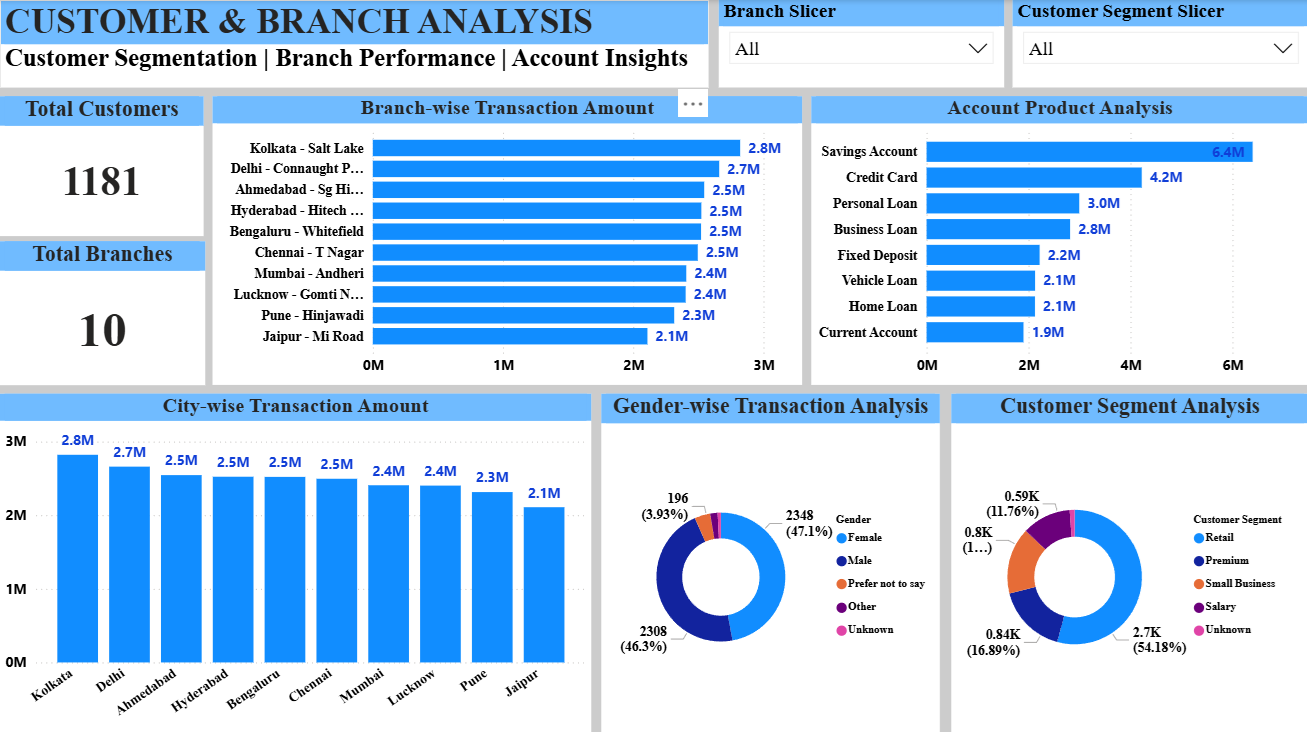

What the dashboard file says about the page in this screenshot:
{"tool":"powerbi","page":{"name":"Customer & Branch Analysis","canvas":[1280,720],"ordinal":1},"visuals":[{"type":"card","title":"Total Customers","fields":{"Values":["Count(Table1.Customer ID)"]},"box":[0,94.2,199.3,137],"z":0},{"type":"card","title":"Total Branches","fields":{"Values":["Count(Table1.Branch)"]},"box":[0,236,200.5,140.6],"z":1},{"type":"donutChart","title":"Customer Segment Analysis","fields":{"Y":["CountNonNull(Table1.Transaction ID)"],"Category":["Table1.Customer Segment"]},"box":[930.6,385.2,349.7,335.1],"z":2},{"type":"clusteredBarChart","title":"Branch-wise Transaction Amount","fields":{"Y":["Sum(Table1.Transaction Amount INR)"],"Category":["Table1.Branch"]},"box":[207.9,94.2,577.2,282.5],"z":3},{"type":"clusteredColumnChart","title":"City-wise Transaction Amount","fields":{"Y":["Sum(Table1.Transaction Amount INR)"],"Category":["Table1.City"]},"box":[0,385.2,578.4,335.1],"z":4},{"type":"donutChart","title":"Gender-wise Transaction Analysis","fields":{"Y":["CountNonNull(Table1.Transaction ID)"],"Category":["Table1.Gender"]},"box":[588.2,385.2,331.4,335.1],"z":5},{"type":"clusteredBarChart","title":"Account Product Analysis","fields":{"Y":["Sum(Table1.Transaction Amount INR)"],"Category":["Table1.Account Product"]},"box":[793.6,94.2,486.7,282.5],"z":6},{"type":"slicer","title":"Customer Segment Slicer","fields":{"Values":["Table1.Customer Segment"]},"box":[990.5,0,289.8,85.6],"z":7},{"type":"slicer","title":"Branch Slicer","fields":{"Values":["Table1.Branch"]},"box":[703.1,0,278.8,85.6],"z":8},{"type":"textbox","title":"CUSTOMER & BRANCH ANALYSIS","box":[0,0,693.3,85.6],"z":9}]}

Visuals, with their boxes in screenshot pixels (x1, y1, x2, y2), scaled from the page's 1280x720 canvas onto the 1307x732 screenshot:
"Total Customers" card: {"left": 0, "top": 96, "right": 204, "bottom": 235}
"Total Branches" card: {"left": 0, "top": 240, "right": 205, "bottom": 383}
"Customer Segment Analysis" donutChart: {"left": 950, "top": 392, "right": 1306, "bottom": 731}
"Branch-wise Transaction Amount" clusteredBarChart: {"left": 212, "top": 96, "right": 802, "bottom": 383}
"City-wise Transaction Amount" clusteredColumnChart: {"left": 0, "top": 392, "right": 591, "bottom": 731}
"Gender-wise Transaction Analysis" donutChart: {"left": 601, "top": 392, "right": 939, "bottom": 731}
"Account Product Analysis" clusteredBarChart: {"left": 810, "top": 96, "right": 1306, "bottom": 383}
"Customer Segment Slicer" slicer: {"left": 1011, "top": 0, "right": 1306, "bottom": 87}
"Branch Slicer" slicer: {"left": 718, "top": 0, "right": 1003, "bottom": 87}
"CUSTOMER & BRANCH ANALYSIS" textbox: {"left": 0, "top": 0, "right": 708, "bottom": 87}
